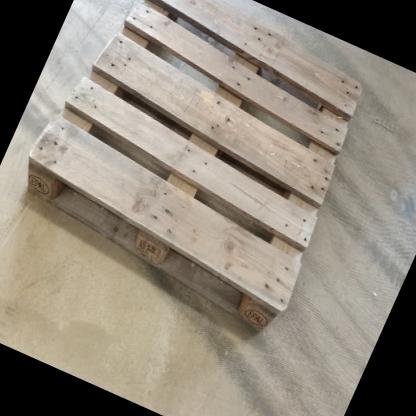BoxFace: (22, 0, 369, 345)
